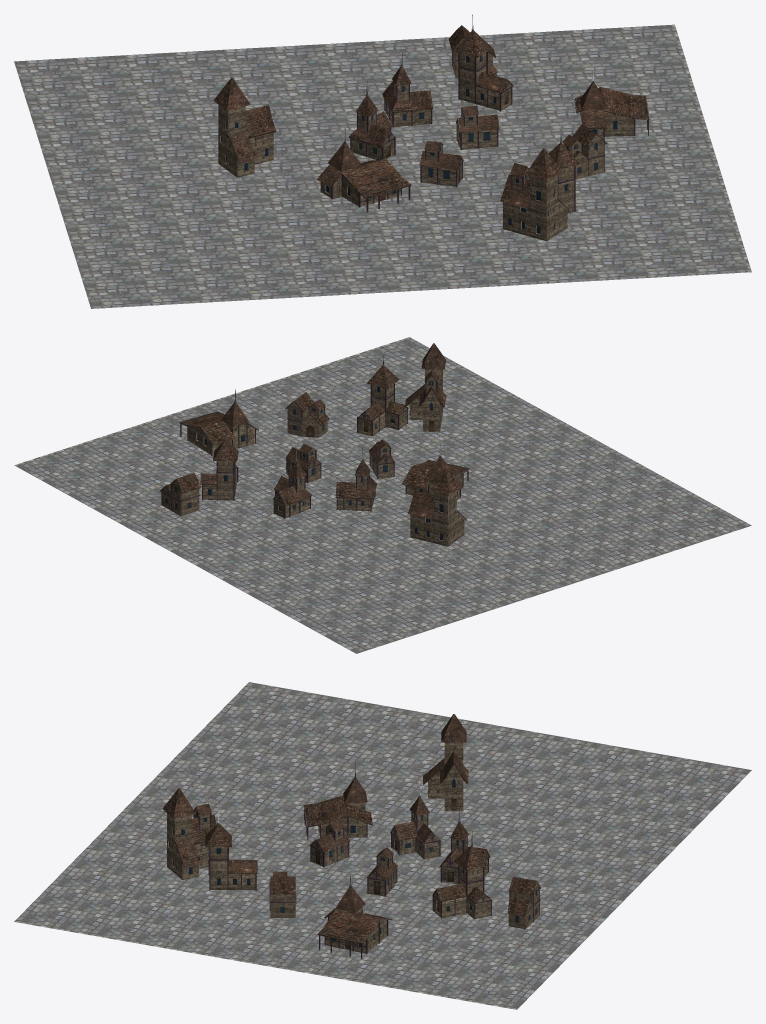
The model's file is houses_blender.glb.
3 views of the same model, one above another, from view 1: azimuth 30°, elevation 25°; view 2: azimuth 150°, elevation 25°; view 3: azimuth 270°, elevation 25° (orthographic). The views are drawn at different scales.
Visible parts, largest first — view 1: Object_2, Object_23, Object_12, Object_7, Object_14, Object_20, Object_18, Object_6, Object_19, Object_17, Object_9, Object_3 (+4 smaller); view 2: Object_2, Object_23, Object_12, Object_20, Object_14, Object_7, Object_6, Object_18, Object_17, Object_19, Object_9, Object_11; view 3: Object_2, Object_23, Object_12, Object_7, Object_20, Object_14, Object_6, Object_17, Object_19, Object_11, Object_9, Object_18 (+1 smaller).
Boxes of the visible parts, bbox=[...] form: Object_2: bbox=[14, 24, 751, 308]; Object_23: bbox=[213, 77, 570, 241]; Object_12: bbox=[453, 30, 580, 213]; Object_7: bbox=[340, 87, 649, 198]; Object_14: bbox=[320, 50, 648, 212]; Object_20: bbox=[449, 25, 606, 179]; Object_18: bbox=[349, 81, 433, 147]; Object_6: bbox=[322, 109, 633, 206]; Object_19: bbox=[421, 122, 496, 186]; Object_17: bbox=[351, 101, 430, 159]; Object_9: bbox=[328, 82, 606, 171]; Object_3: bbox=[419, 114, 499, 170]; Object_2: bbox=[14, 337, 751, 653]; Object_23: bbox=[405, 343, 466, 546]; Object_12: bbox=[202, 365, 407, 500]; Object_20: bbox=[160, 392, 329, 515]; Object_14: bbox=[170, 383, 468, 518]; Object_7: bbox=[179, 411, 469, 489]; Object_6: bbox=[188, 422, 462, 499]; Object_18: bbox=[272, 476, 376, 506]; Object_17: bbox=[274, 490, 374, 517]; Object_19: bbox=[287, 454, 393, 482]; Object_9: bbox=[221, 402, 453, 478]; Object_11: bbox=[200, 401, 408, 484]; Object_2: bbox=[14, 682, 751, 1009]; Object_23: bbox=[162, 714, 468, 879]; Object_12: bbox=[205, 824, 490, 918]; Object_7: bbox=[303, 795, 392, 944]; Object_20: bbox=[270, 876, 540, 929]; Object_14: bbox=[208, 810, 540, 958]; Object_6: bbox=[318, 802, 386, 953]; Object_17: bbox=[392, 829, 487, 884]; Object_19: bbox=[311, 841, 396, 896]; Object_11: bbox=[228, 860, 491, 903]; Object_9: bbox=[335, 778, 367, 912]; Object_18: bbox=[390, 821, 490, 867].
Bounding box in the file's own units: 84.21 × 10.05 × 80.1.
Materials: 22 (22 with a texture image).
